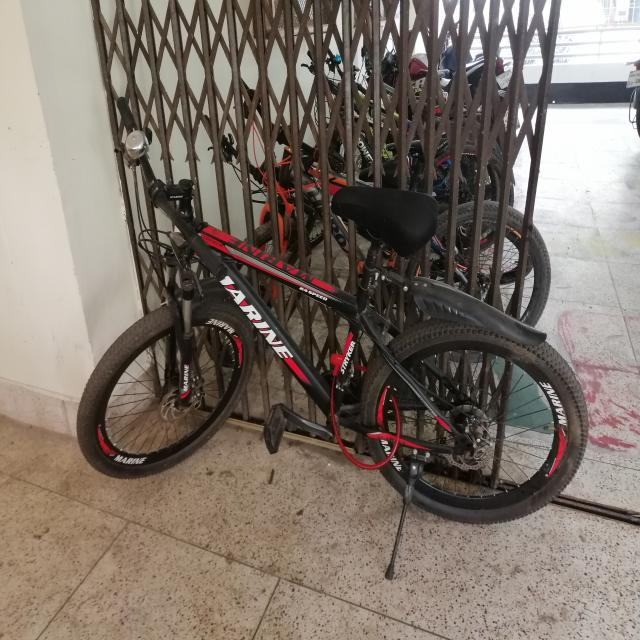Bicycle: (57, 106, 607, 589)
